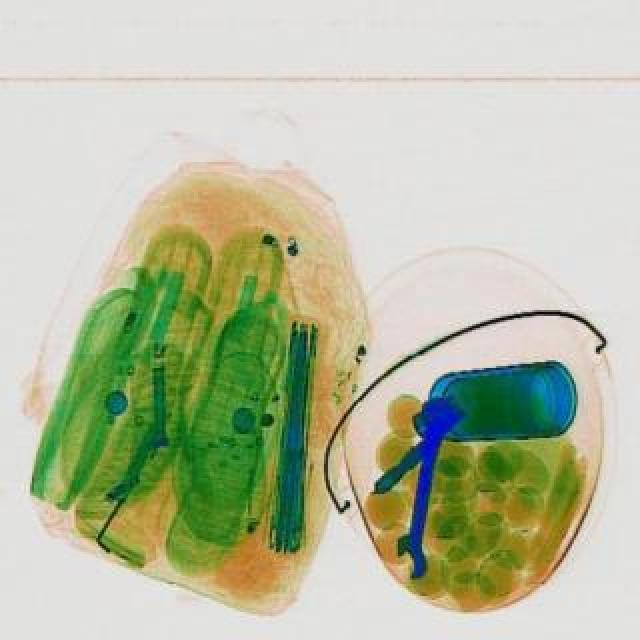scissors: (390, 394, 454, 580)
